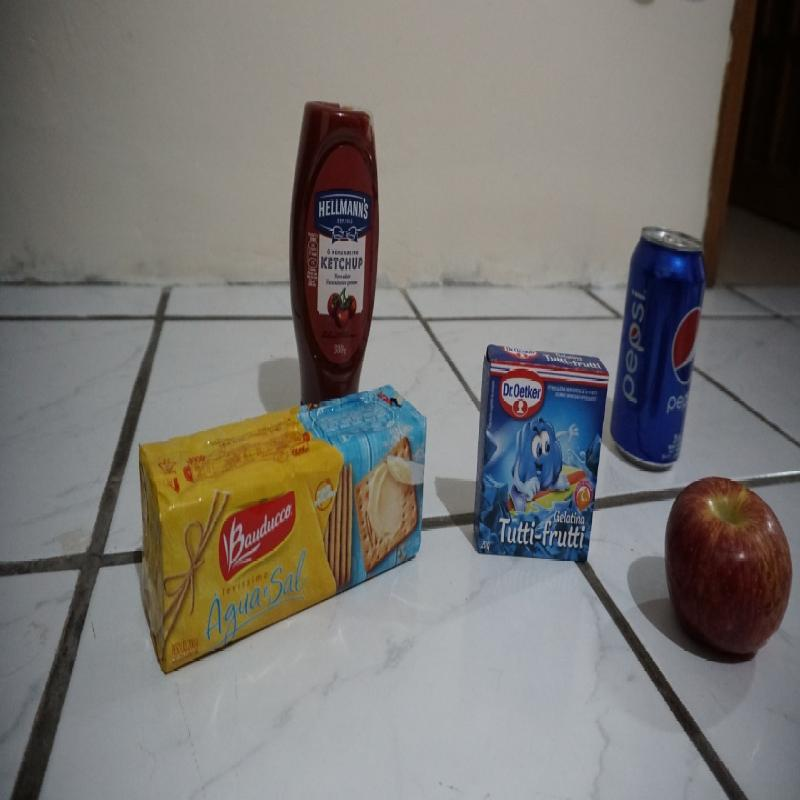Apple: (665, 476, 794, 664)
Cracker: (138, 383, 426, 665)
Gelatine: (471, 342, 609, 568)
Ketchup: (292, 93, 380, 378)
Soda can: (610, 221, 704, 472)
